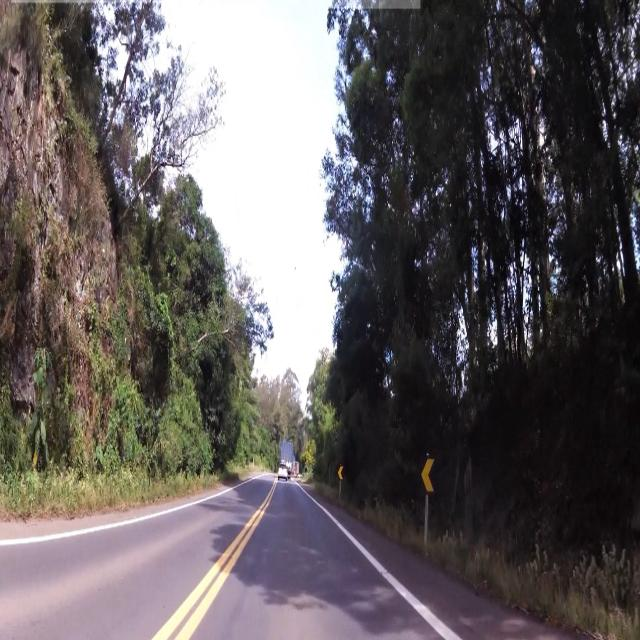Del: (417, 454, 439, 498)
